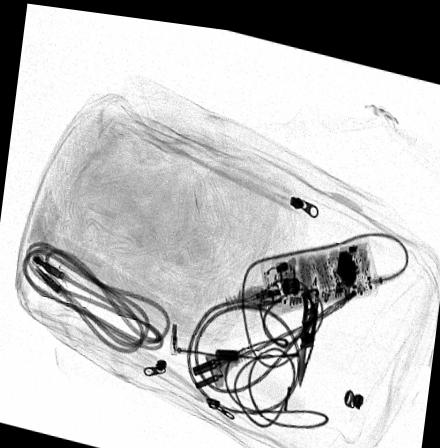Knife: (294, 277, 319, 381)
